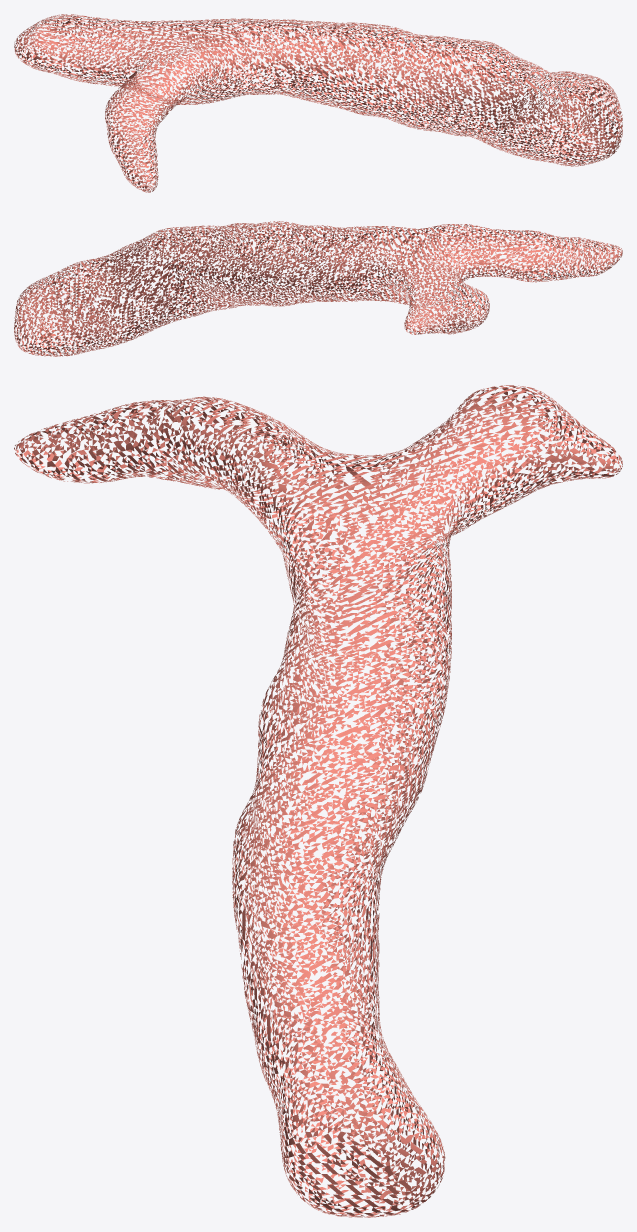
File: diseased.glb
3 views of the same model, one above another, from view 1: azimuth 30°, elevation 25°; view 2: azimuth 150°, elevation 25°; view 3: azimuth 270°, elevation 25° (orthographic). The views are drawn at different scales.
Bounding box in the file's own units: 141 × 52.82 × 73.45.
